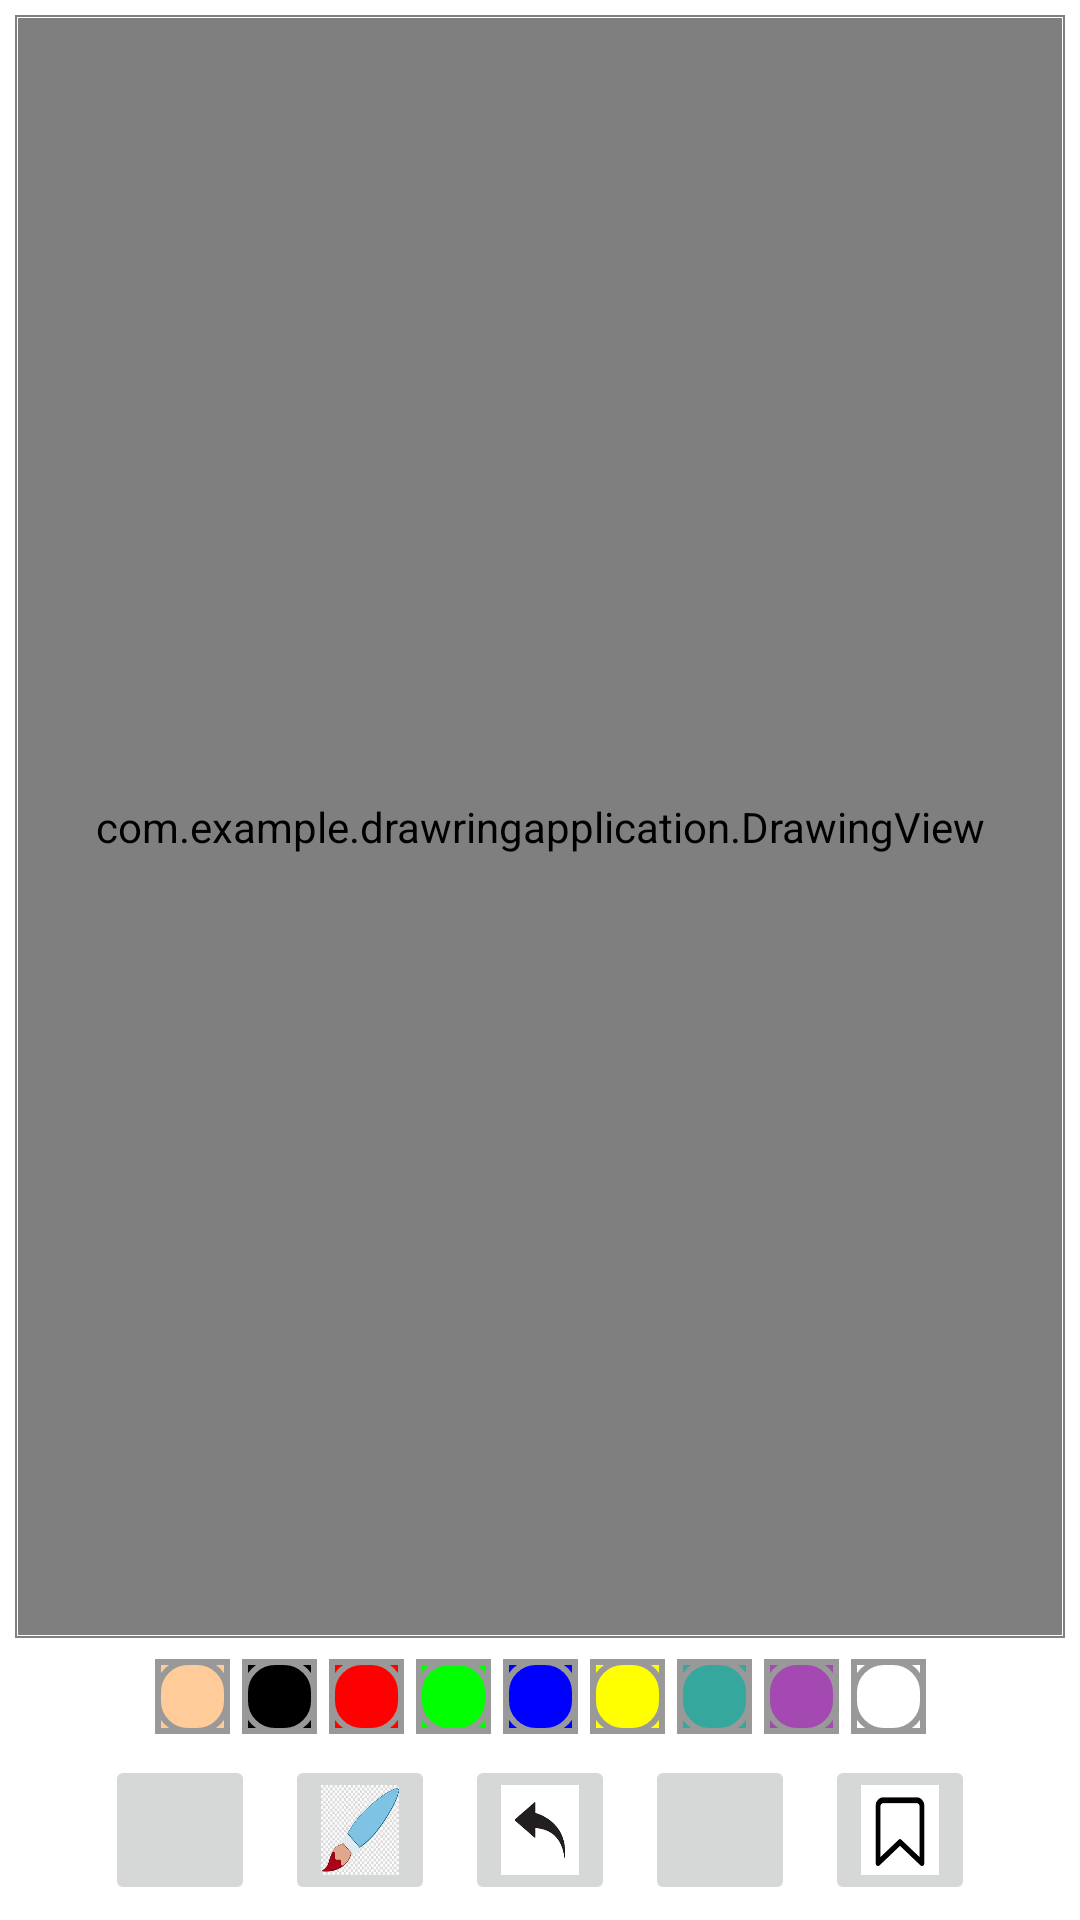

Point at icon controls on the screen. Image size 1080*1920, points as (x,y).
brush: (360,1830)
save: (900,1830)
undo: (540,1830)
